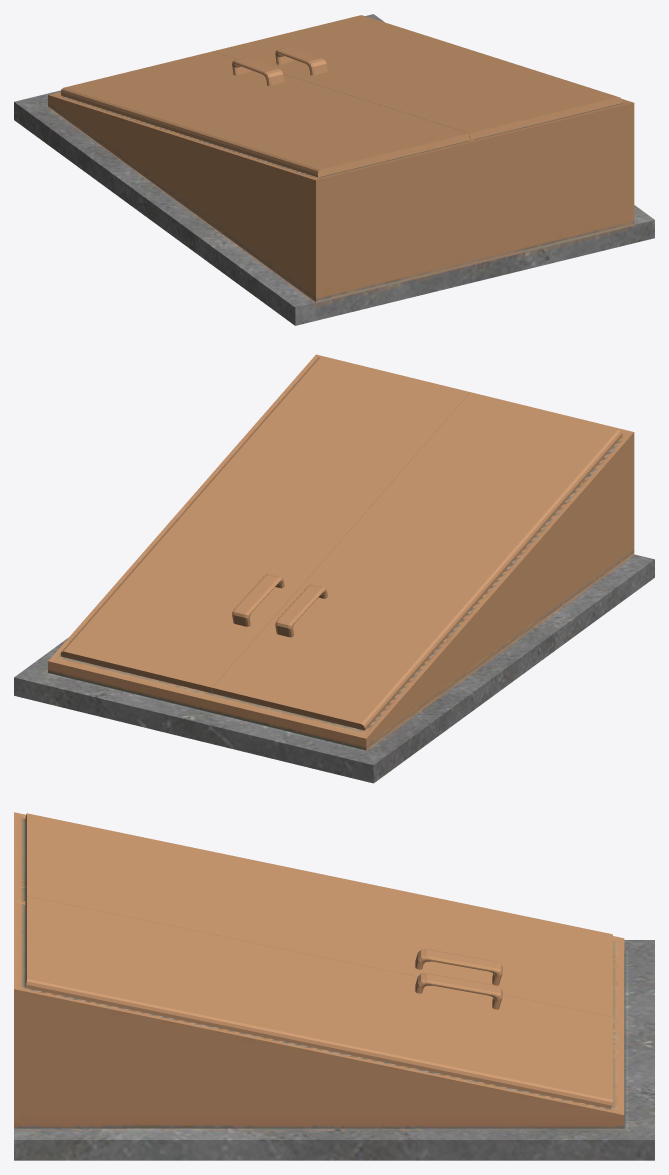
Rendered from P_BasementEntrance.obj.
3 renders of one model, top to bottom at view 1: azimuth 30°, elevation 25°; view 2: azimuth 150°, elevation 25°; view 3: azimuth 270°, elevation 25°, orthographic. The views are drawn at different scales.
Bounding box in the file's own units: 1.18 × 0.4529 × 1.6.
Materials: 1 (1 with a texture image).
